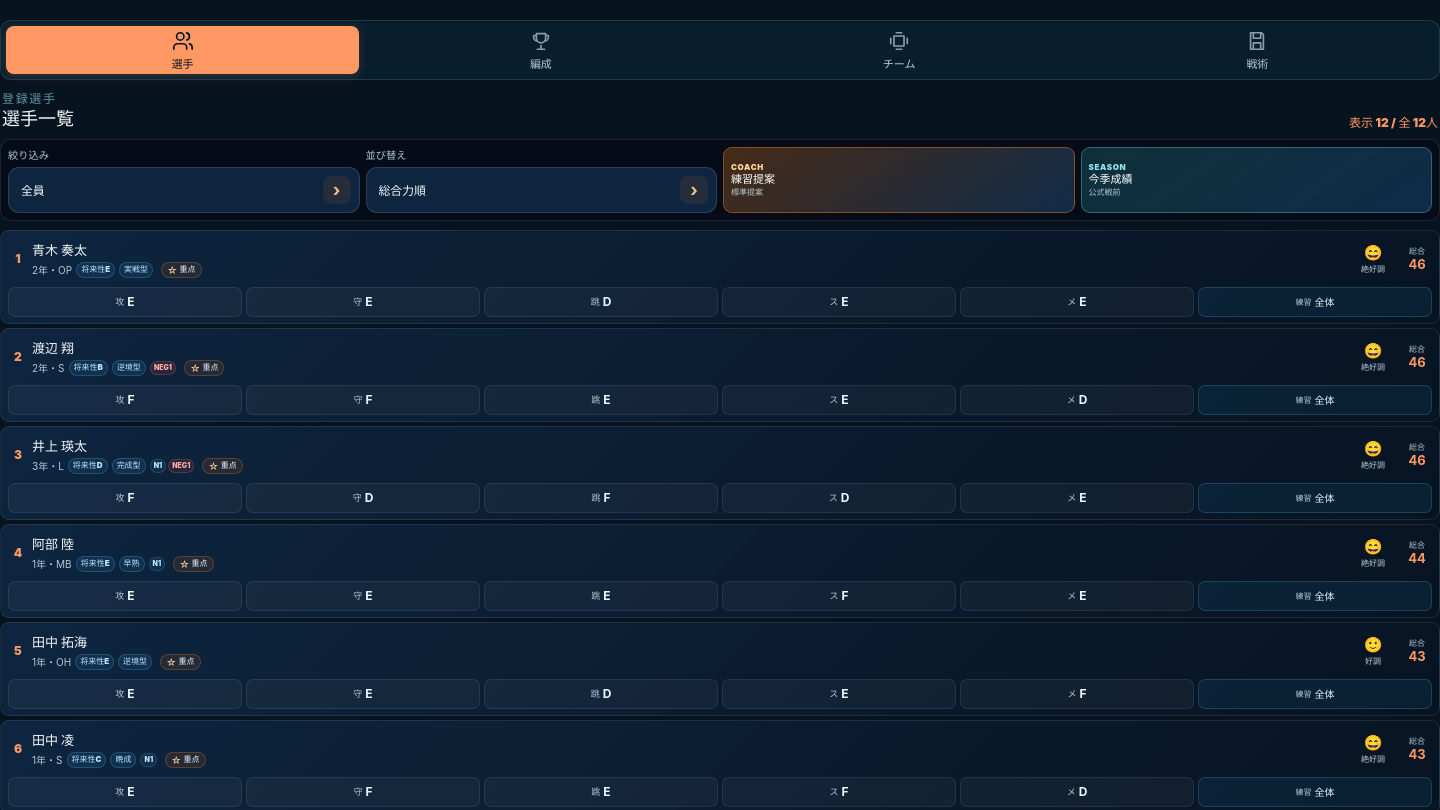
Test: PlayerHubScreen › filters to players whose recent growth is slowing or stalled
Click the button with aria-label "選手絞り込み". click: click(33, 191)
box: x1=8 y1=167 x2=360 y2=213
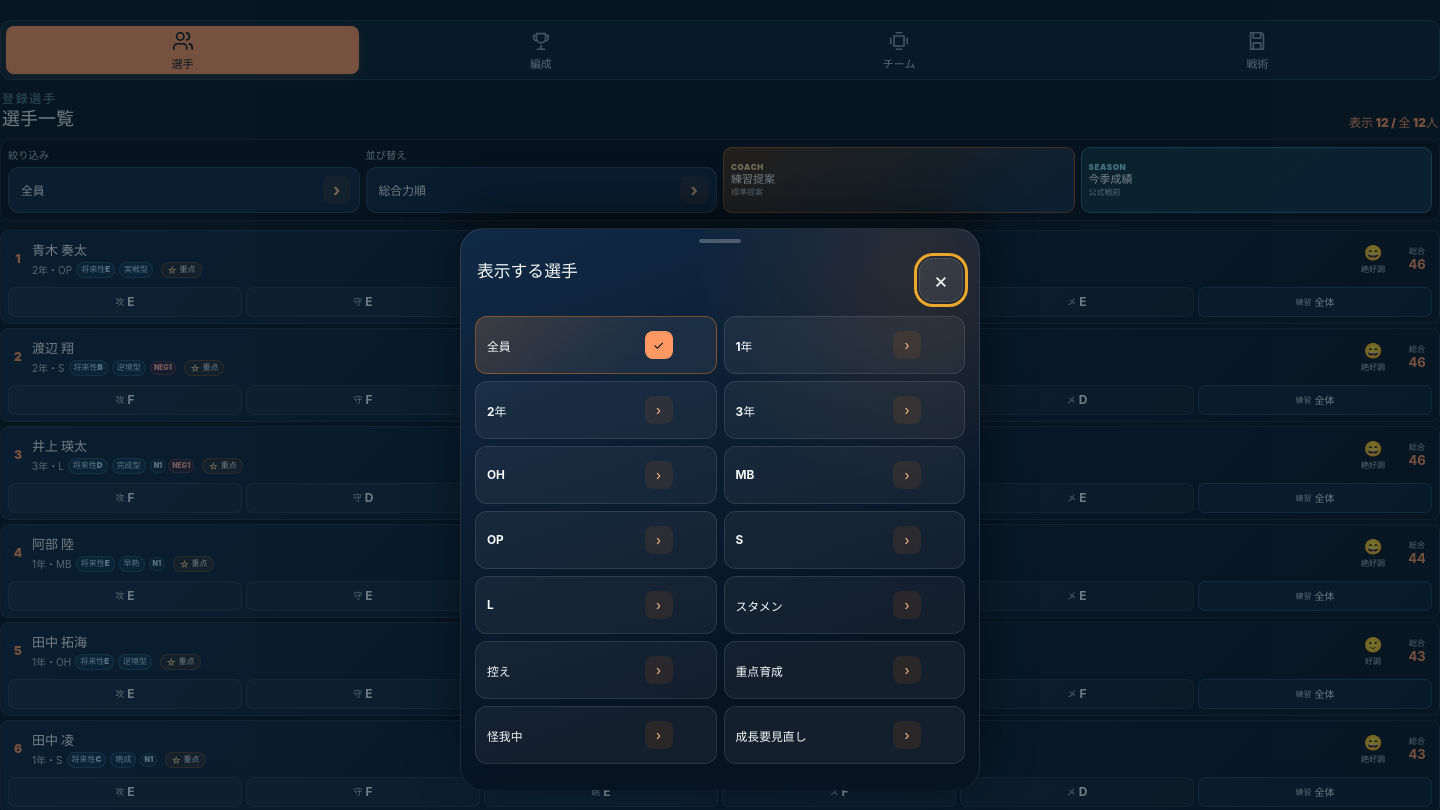
Click the button "成長要見直し ›". click: click(844, 735)
box: x1=724 y1=706 x2=965 y2=764
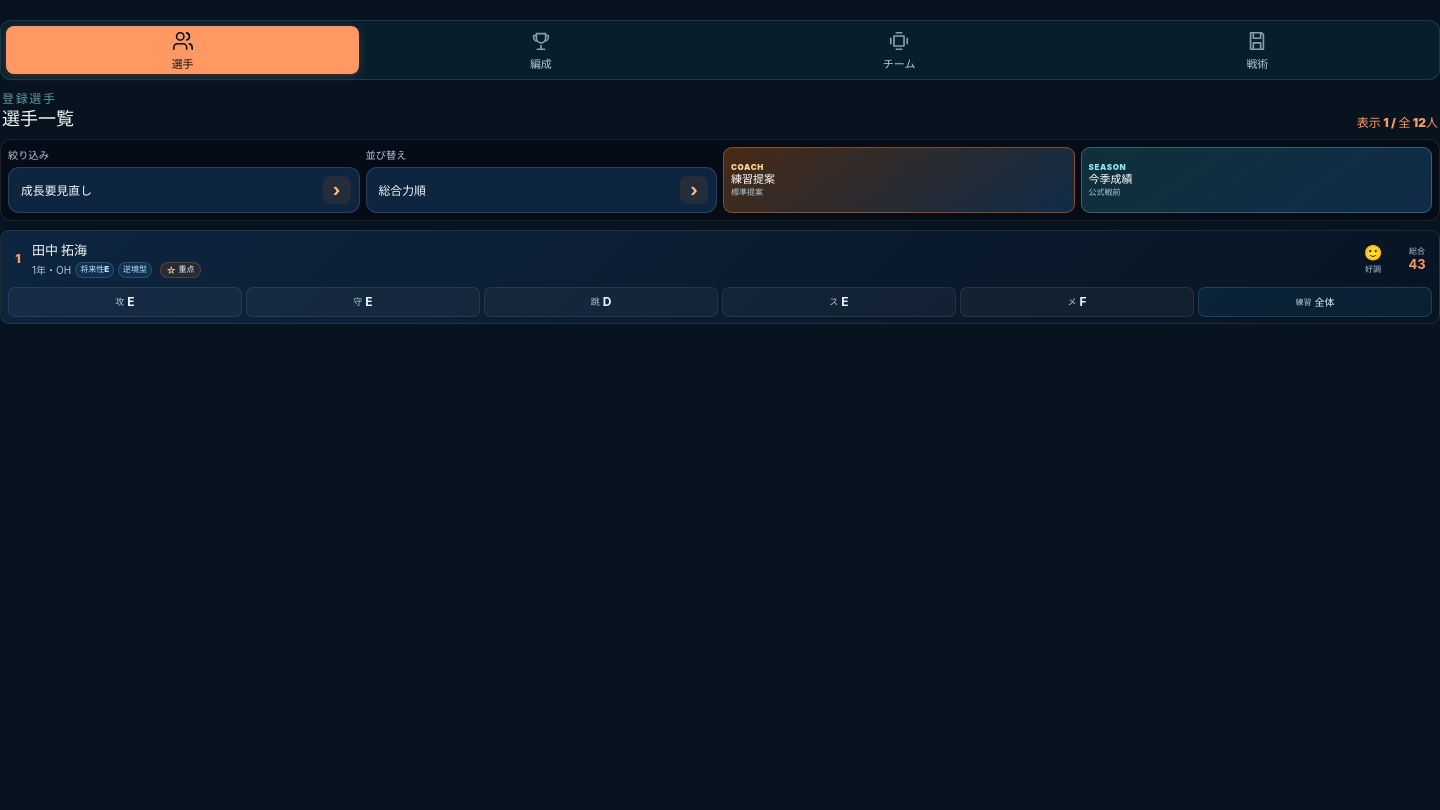
expect the number of elements with test id "roster-player-row" is 1: met, box x1=0 y1=230 x2=1439 y2=324
